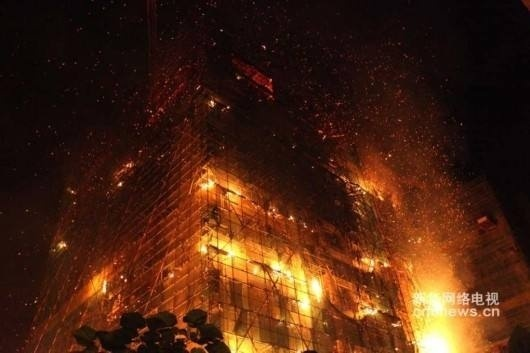fire: (191, 164, 331, 318), (412, 288, 456, 352), (354, 250, 392, 271)
